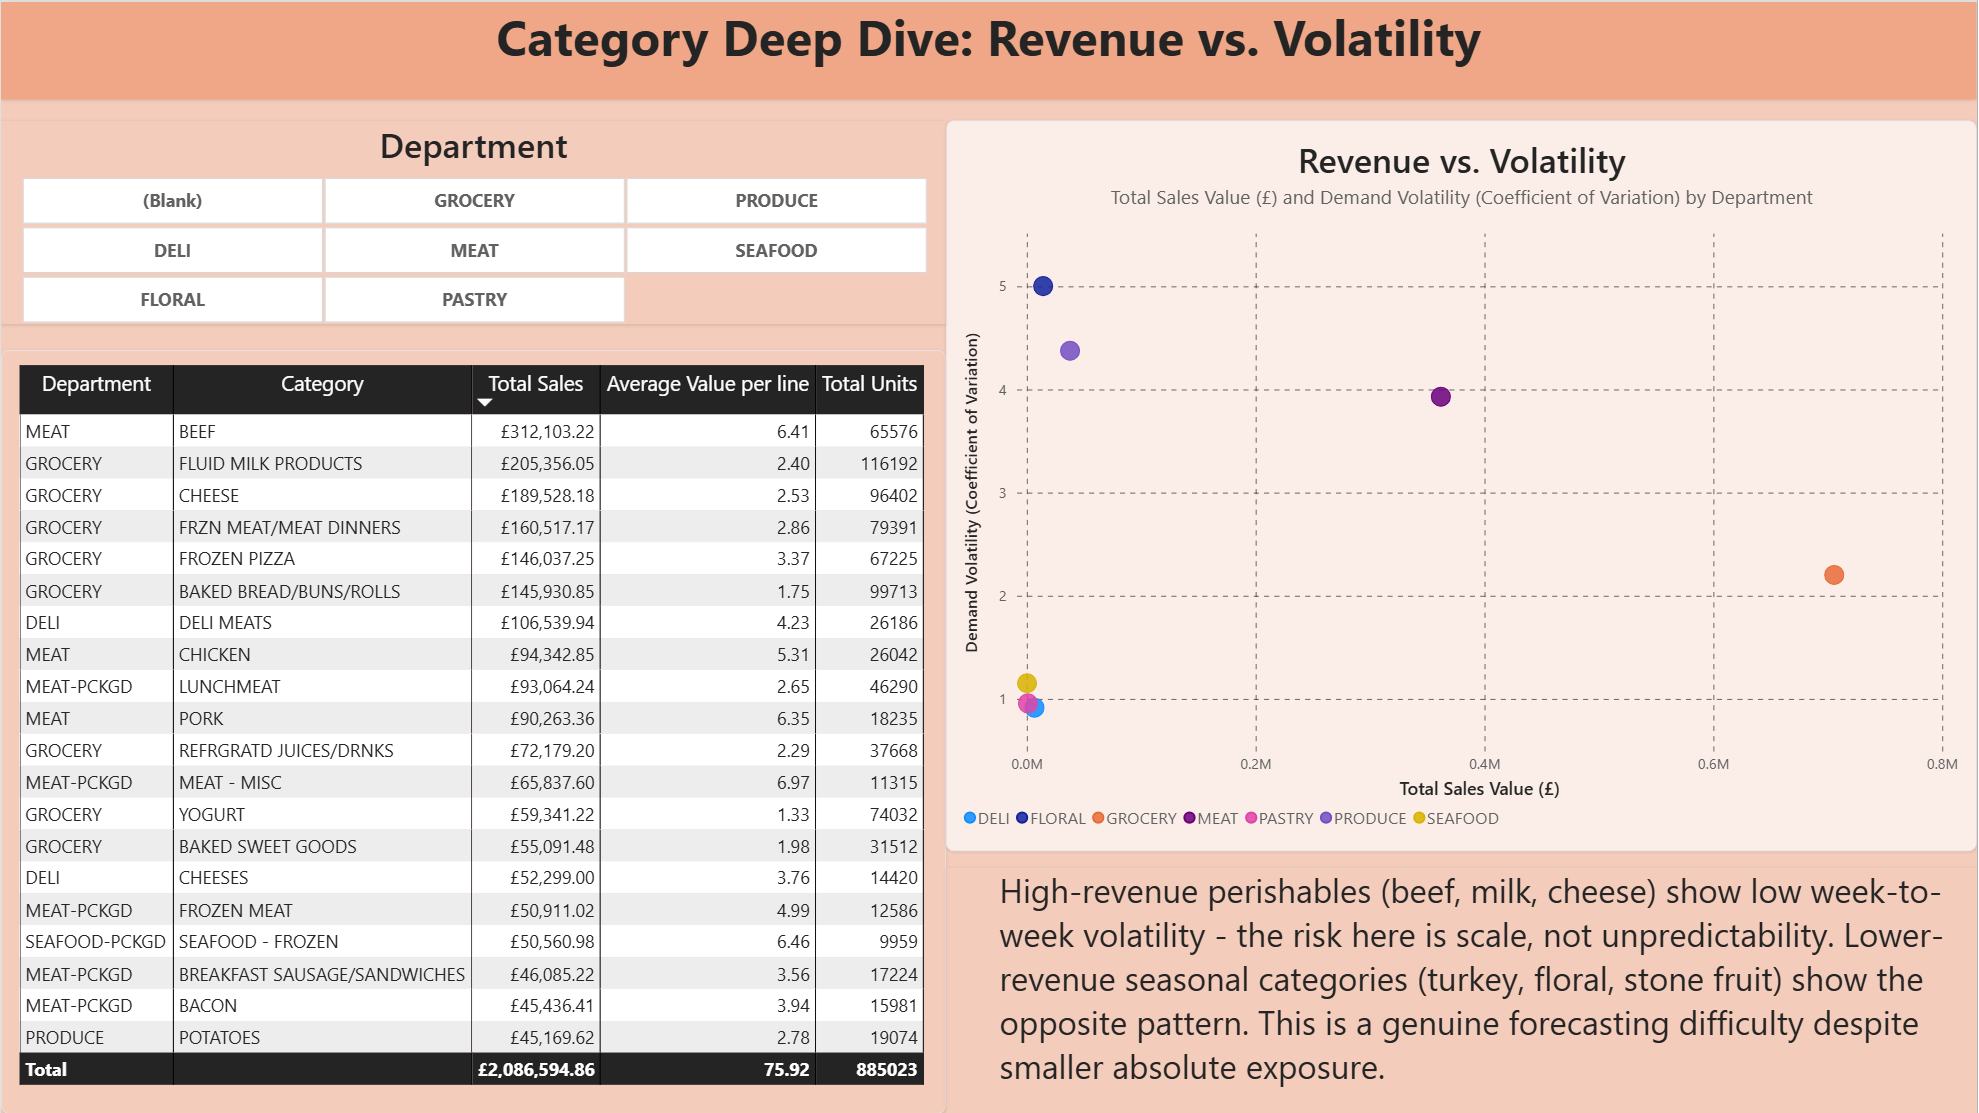

Layout of this report page (visuals, bound fields, positions):
{"tool":"powerbi","page":{"name":"Category Deep Dive","canvas":[1920,1080],"ordinal":1},"visuals":[{"type":"tableEx","fields":{"Values":["category_breakdown.department","category_breakdown.commodity_desc","Sum(category_breakdown.total_sales_value)","Sum(category_breakdown.avg_line_value)","Sum(category_breakdown.total_units)"]},"box":[0,338.1,918.2,741.9],"z":0},{"type":"scatterChart","title":"Revenue vs. Volatility ","fields":{"Series":["priority_ranking.department"],"X":["Sum(priority_ranking.total_sales_value)"],"Y":["Sum(priority_ranking.coefficient_of_variation)"]},"box":[918.2,115.1,1001.3,709.8],"z":1000},{"type":"slicer","title":"Department","fields":{"Values":["priority_ranking.department"]},"box":[0,115.1,918.2,198.2],"z":2000},{"type":"textbox","box":[918.2,841,1001.3,239],"z":3000},{"type":"textbox","box":[0,0,1919.5,94.7],"z":4000}]}

Visuals, with their boxes in screenshot pixels (x1, y1, x2, y2), scaled from the page's 1920x1080 canvas onto the 1979x1113 screenshot:
tableEx - category_breakdown.department x category_breakdown.commodity_desc: BBox(0, 348, 946, 1112)
"Revenue vs. Volatility " scatterChart: BBox(946, 119, 1978, 850)
"Department" slicer: BBox(0, 119, 946, 323)
textbox: BBox(946, 867, 1978, 1112)
textbox: BBox(0, 0, 1978, 98)
